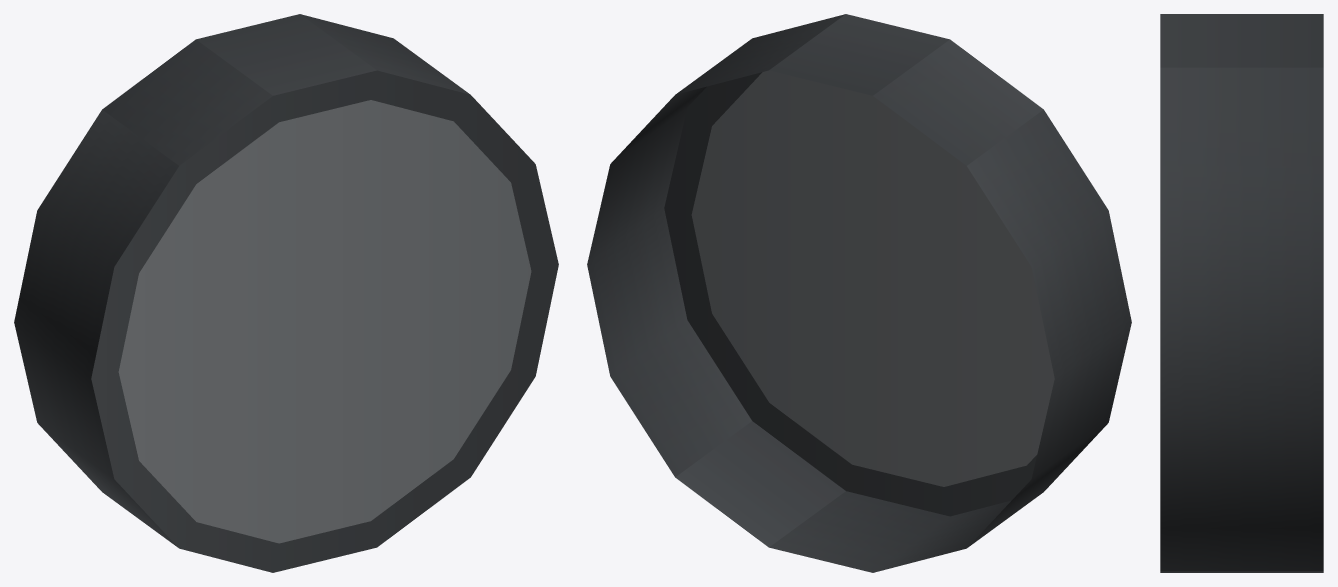
The model's file is centro_lancette_V2.fbx.
The picture shows the model from 3 angles, left to right: view 1: azimuth 30°, elevation 25°; view 2: azimuth 150°, elevation 25°; view 3: azimuth 270°, elevation 25°; orthographic projection. The views are drawn at different scales.
Parts seen in each view (by area): view 1: centro_lancette; view 2: centro_lancette; view 3: centro_lancette.
Part boxes in pixels (x1,y1,x2,y2): centro_lancette: [14, 14, 558, 572]; centro_lancette: [587, 14, 1131, 572]; centro_lancette: [1160, 14, 1323, 572].
Bounding box in the file's own units: 1.74 × 1.7 × 0.4983.
